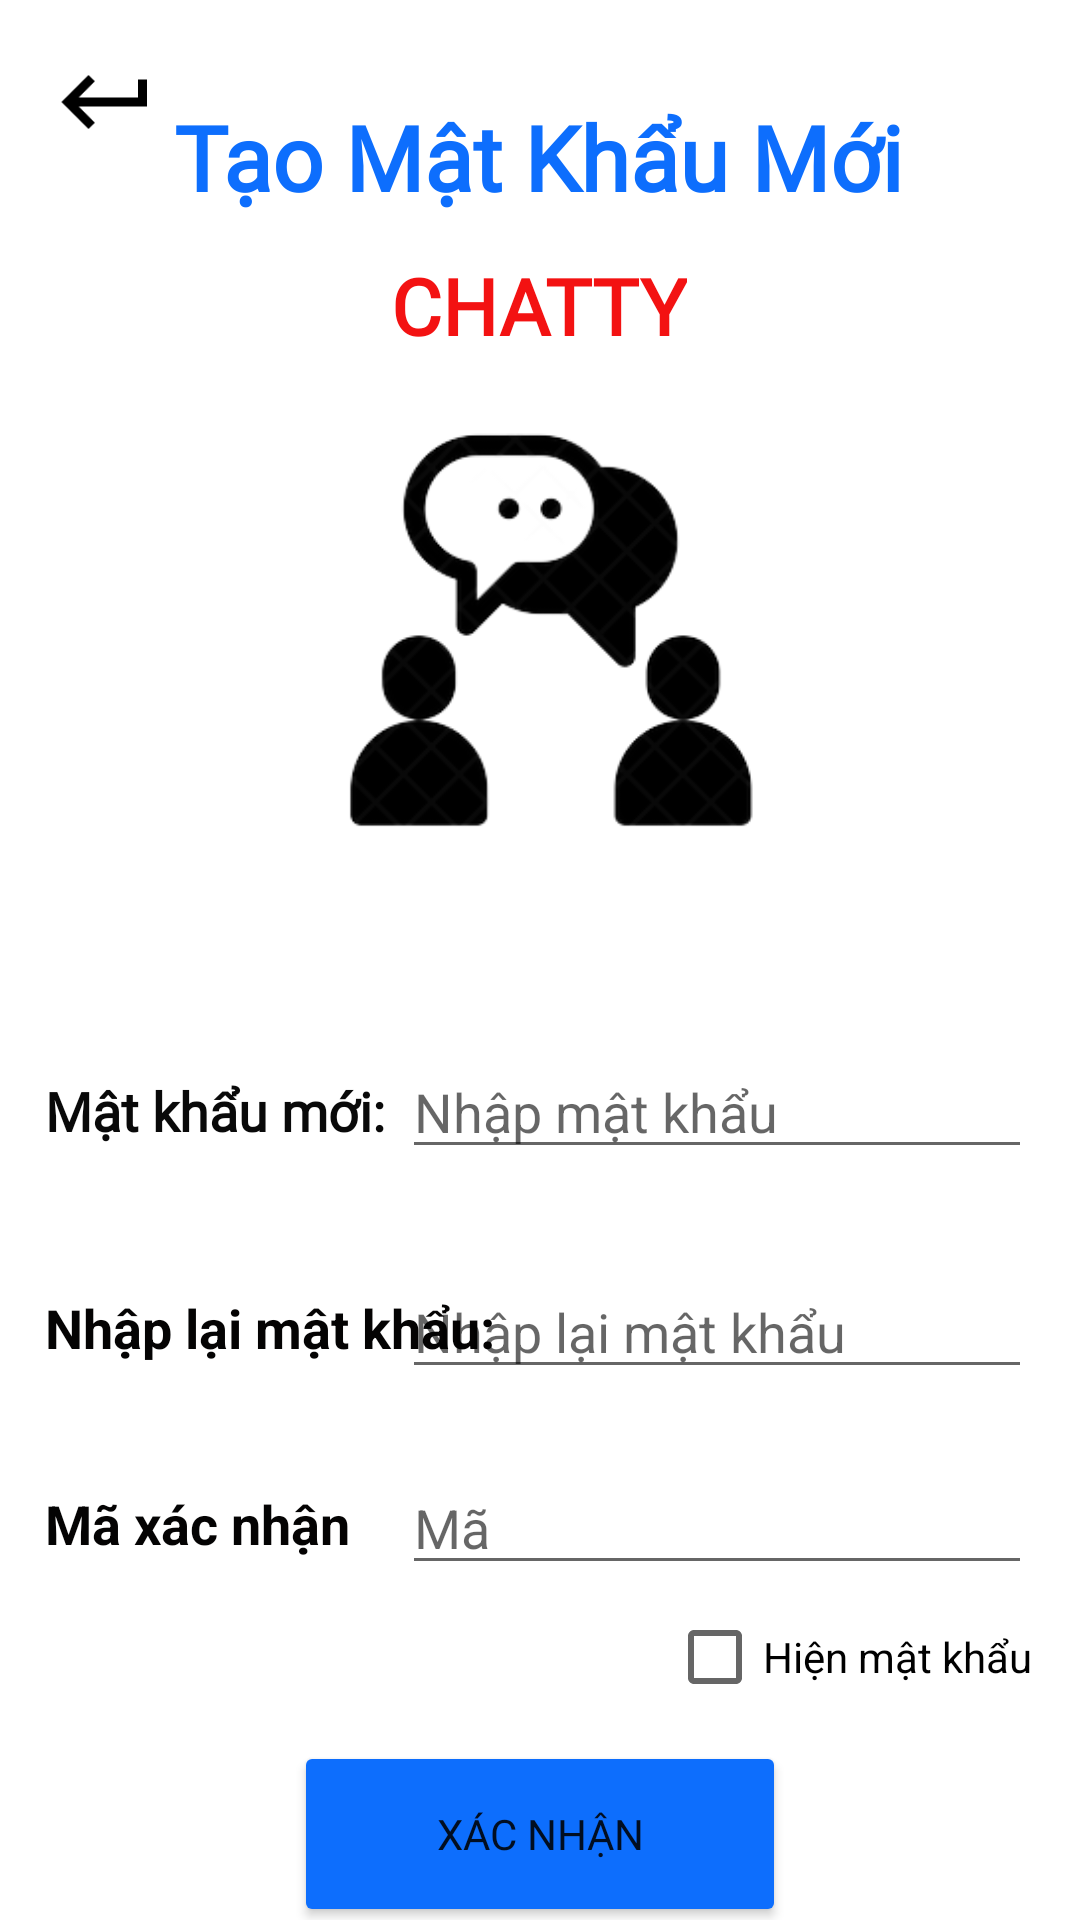

Icons on this 1080*1920 Android screen, each with its box as (x1, y1, x2, y2):
keyboard return: (61, 75, 147, 129)
